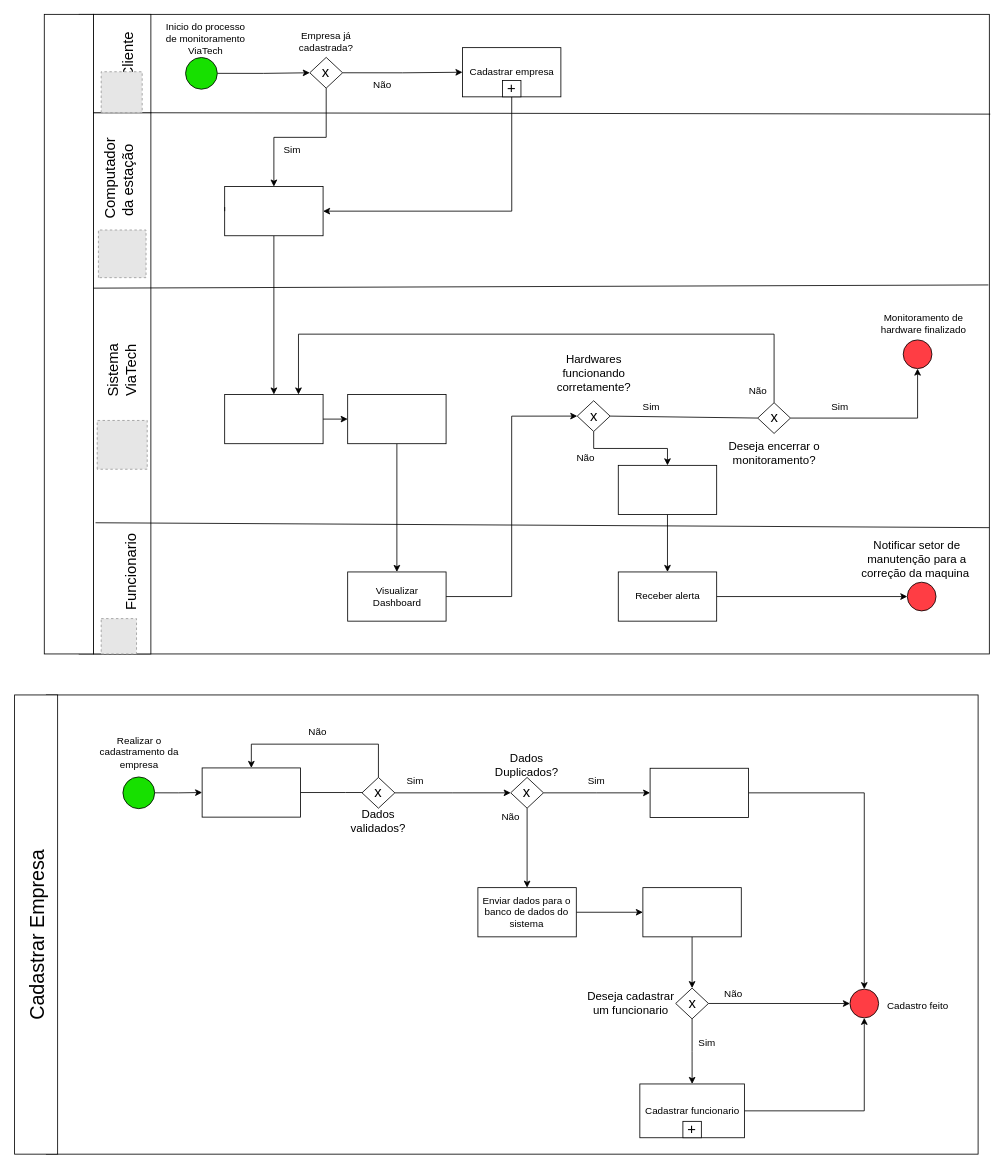
This 1005x1169 diagram has some shape labels left out. Grey dashed boxes stand in for pictures. The shapes that lost their labels are listed below. From the top down, each one's centre as x and y in pixels, then its label:
At point (273, 211): "Gerar Dados do hardware".
At point (68, 334): "Monitoramento de hardwares nos computadores da estação de metrôs".
At point (273, 419): "Receber dados Da maquina".
At point (396, 419): "Exibir dados na dashboard".
At point (667, 490): "Emitir Slack".
At point (251, 792): "Preencher formulario de cadastro".
At point (698, 792): "Retornar que essa empresa já foi cadastrada".
At point (691, 912): "Finalizar cadastro da empresa".
